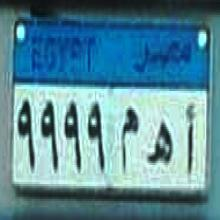9: (86, 101, 107, 170), (16, 99, 34, 172), (42, 101, 58, 172), (65, 102, 80, 171)
alif: (184, 100, 197, 179)
haa: (146, 117, 177, 169)
meem: (118, 105, 142, 173)
